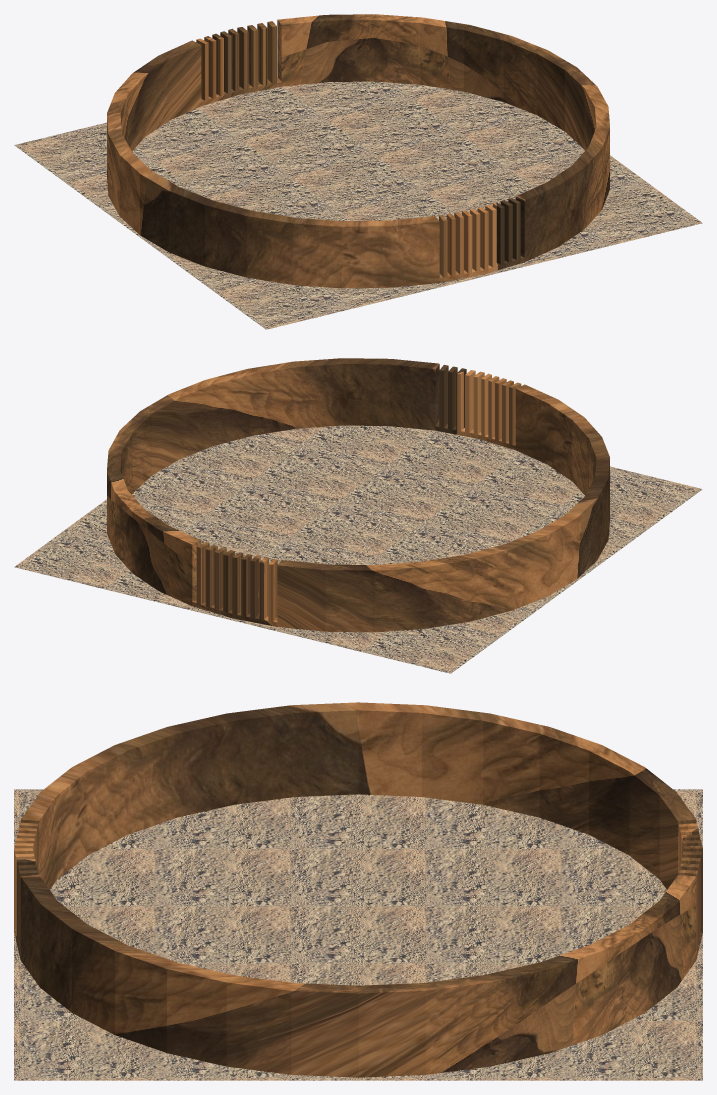
Rendered from Stage_1.fbx.
3 renders of one model, top to bottom at view 1: azimuth 30°, elevation 25°; view 2: azimuth 150°, elevation 25°; view 3: azimuth 270°, elevation 25°, orthographic. The views are drawn at different scales.
Visible parts, largest first — view 1: wall, Stage; view 2: wall, Stage; view 3: wall, Stage.
Part boxes in pixels (bbox=[...]): wall: bbox=[107, 14, 609, 288]; Stage: bbox=[14, 81, 702, 329]; wall: bbox=[107, 358, 609, 632]; Stage: bbox=[14, 425, 702, 673]; wall: bbox=[14, 702, 702, 1077]; Stage: bbox=[14, 789, 702, 1080].
Bounding box in the file's own units: 6000 × 836 × 6000.
2 materials, 2 textured.
